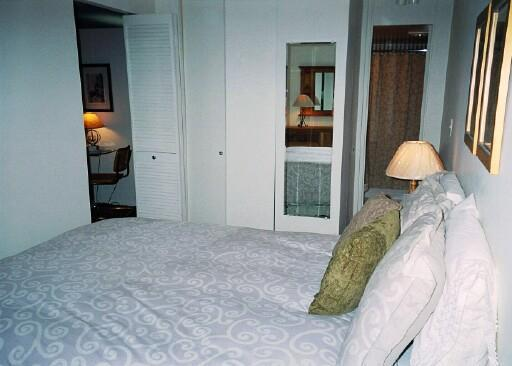Armario: (182, 3, 273, 234)
Cama: (15, 224, 493, 365)
Ducha: (376, 29, 421, 185)
Puerta: (125, 13, 184, 243)
